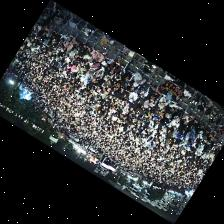person: (122, 57, 134, 81), (61, 37, 77, 51), (172, 110, 183, 130), (109, 57, 121, 74), (78, 43, 92, 56), (162, 113, 172, 130), (92, 49, 104, 63), (149, 87, 161, 101), (166, 101, 180, 113), (141, 109, 151, 125), (134, 72, 146, 85), (183, 112, 196, 123), (159, 96, 170, 108), (154, 103, 165, 115), (79, 73, 89, 86), (139, 81, 150, 92), (139, 87, 150, 98), (113, 70, 121, 85), (129, 89, 138, 102), (189, 127, 196, 143), (129, 80, 139, 91), (129, 99, 139, 110), (77, 57, 88, 67), (83, 52, 93, 63), (119, 81, 129, 92), (144, 96, 154, 107), (135, 105, 144, 116), (195, 122, 204, 133), (51, 30, 62, 39), (96, 64, 104, 76), (196, 130, 203, 143), (59, 33, 68, 43), (113, 90, 121, 101), (69, 49, 77, 60), (102, 56, 112, 64), (188, 120, 198, 128), (211, 138, 221, 146), (208, 150, 215, 161), (197, 144, 204, 155), (34, 24, 43, 32), (67, 65, 76, 73), (105, 73, 115, 80), (177, 133, 184, 143), (123, 103, 129, 114), (122, 90, 131, 97), (140, 97, 145, 109), (47, 26, 53, 36), (89, 62, 94, 70)
